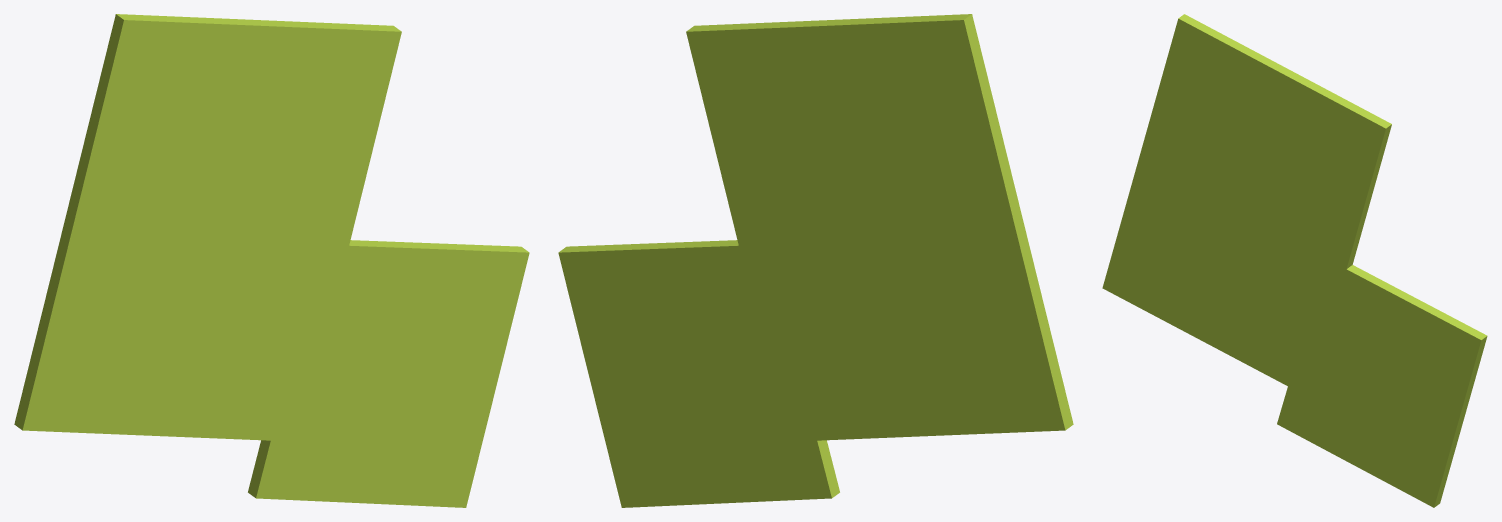
3 renders of one model, left to right at view 1: azimuth 30°, elevation 25°; view 2: azimuth 150°, elevation 25°; view 3: azimuth 330°, elevation 25°, orthographic. The views are drawn at different scales.
Parts seen in each view (by area): view 1: osm-way27917482-F1; view 2: osm-way27917482-F1; view 3: osm-way27917482-F1.
Boxes of the visible parts, x1,y1,x2,y2 form: osm-way27917482-F1: [14, 14, 529, 507]; osm-way27917482-F1: [558, 14, 1073, 507]; osm-way27917482-F1: [1102, 14, 1487, 507].
Bounding box in the file's own units: 5.34 × 5.75 × 0.15.
